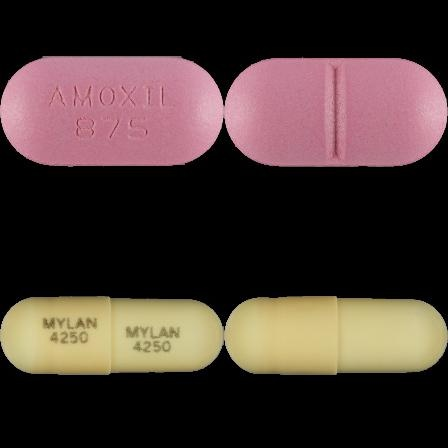50436-4543: (0, 0, 224, 224)
